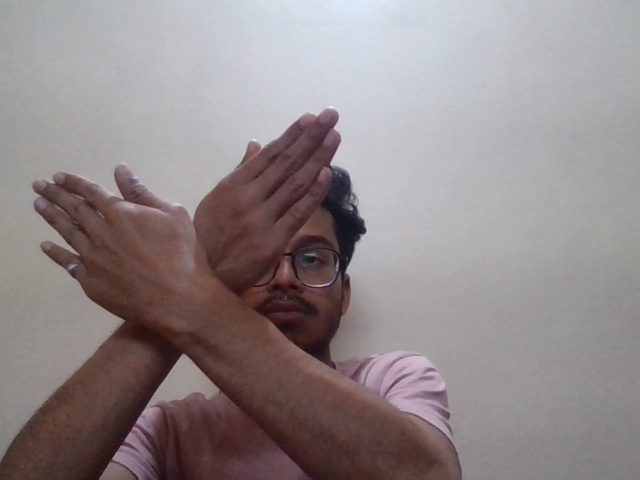feel: (21, 90, 357, 353)
